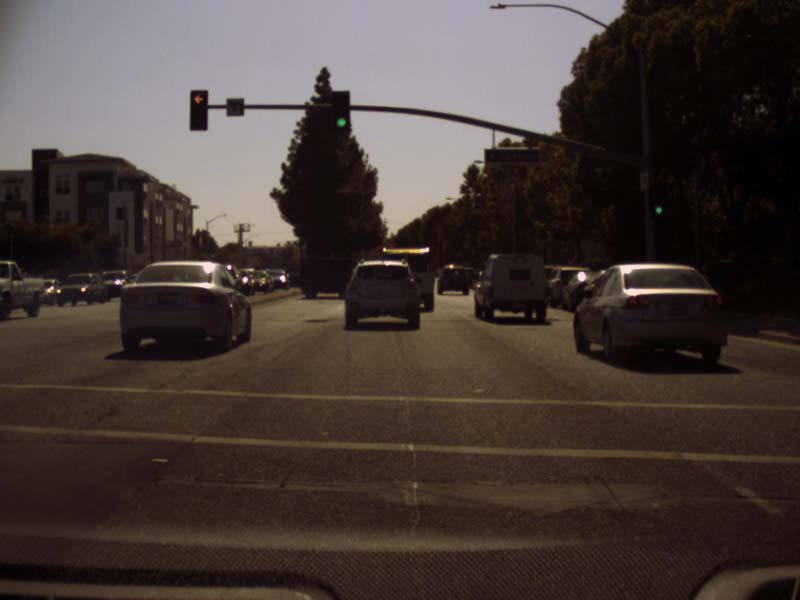Green: (331, 91, 348, 131), (650, 184, 666, 221)
Red: (189, 90, 207, 130)
